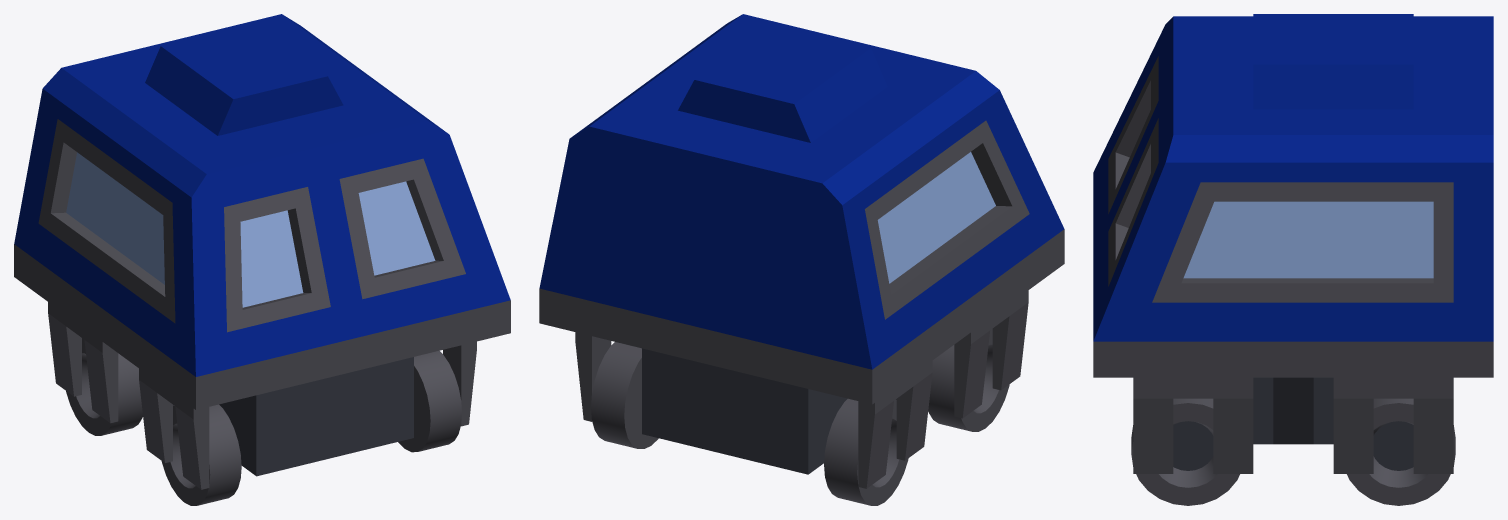
Rendered from locomotive.glb.
The picture shows the model from 3 angles, left to right: view 1: azimuth 30°, elevation 25°; view 2: azimuth 150°, elevation 25°; view 3: azimuth 270°, elevation 25°; orthographic projection. The views are drawn at different scales.
Visible parts, largest first — view 1: diesel_cabin_front, bogie_clamp, wheel_small (×2); view 2: diesel_cabin_front, bogie_clamp, wheel_small (×2); view 3: diesel_cabin_front, bogie_clamp, wheel_small (×2).
Boxes of the visible parts, x1,y1,x2,y2 form: diesel_cabin_front: (14, 14, 510, 376); bogie_clamp: (14, 244, 510, 489); wheel_small (×2): (66, 338, 461, 505); diesel_cabin_front: (539, 14, 1064, 369); bogie_clamp: (539, 229, 1064, 488); wheel_small (×2): (591, 329, 1009, 505); diesel_cabin_front: (1093, 14, 1493, 341); bogie_clamp: (1093, 341, 1493, 473); wheel_small (×2): (1131, 398, 1455, 505).
Bounding box in the file's own units: 0.38 × 0.418 × 0.38.
